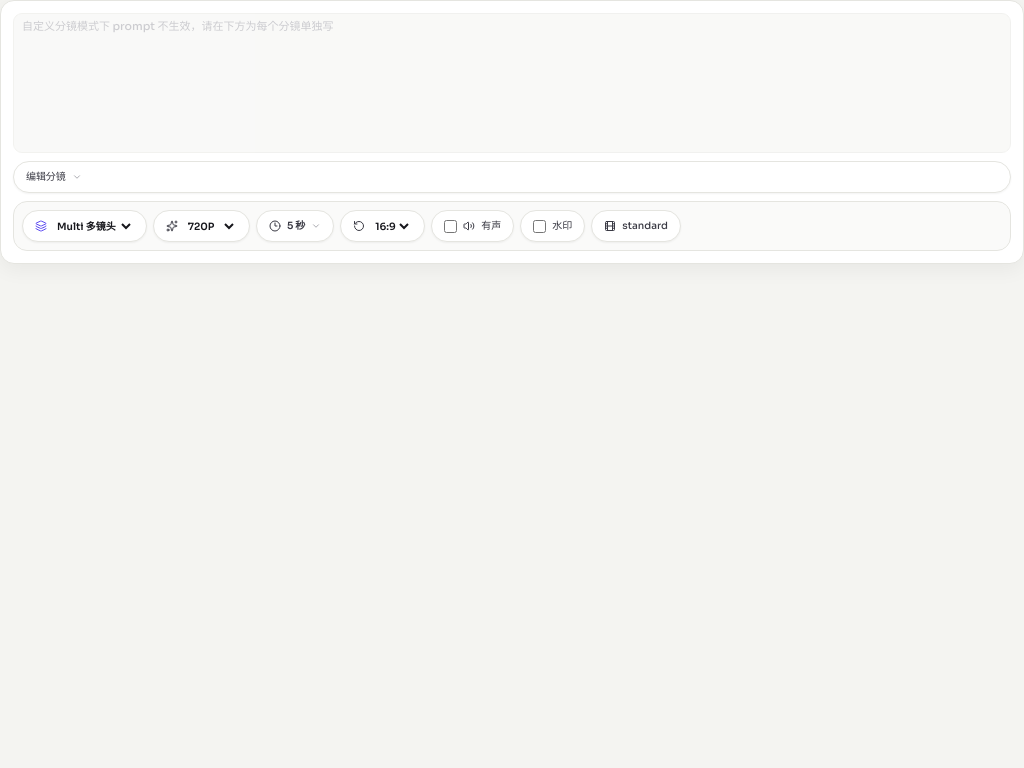
Test: KlingCard 多镜头模式 › Multi mode + shot_type=customize 时显示「+ 添加分镜」按钮
The image size is (1024, 768).
Step 1. Click the button with aria-label "多镜头设置" → click(46, 176), box [13,161,1011,193]
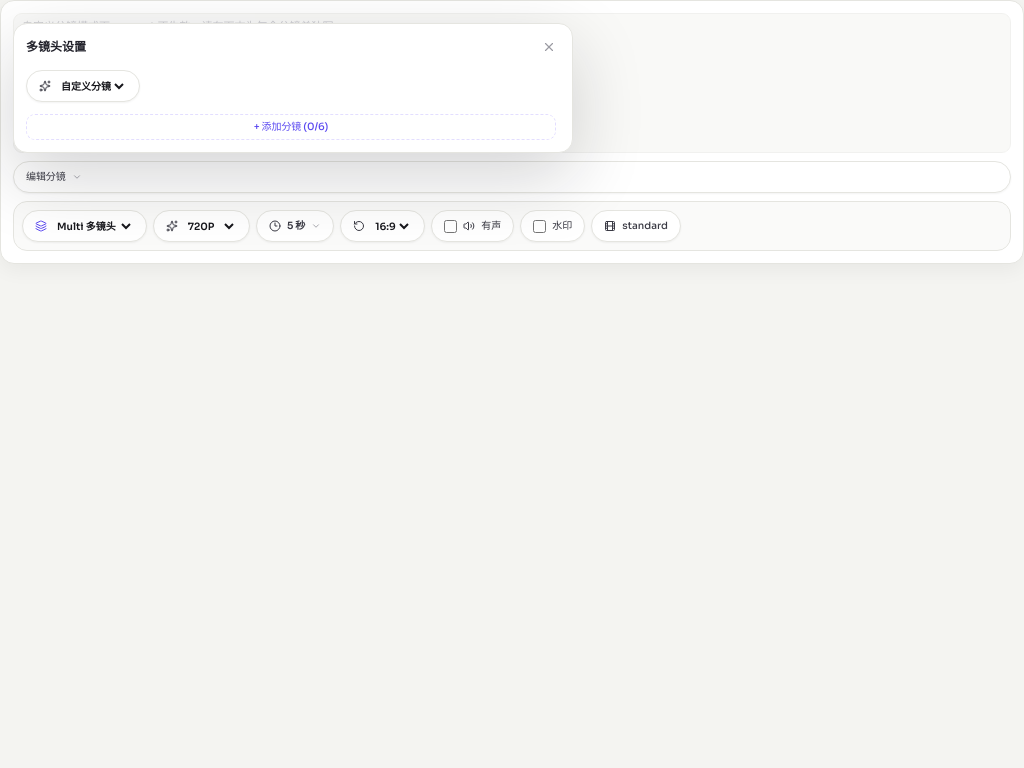
Expected: the button "+ 添加分镜 (0/6)" is shown, [26,114,556,140]
